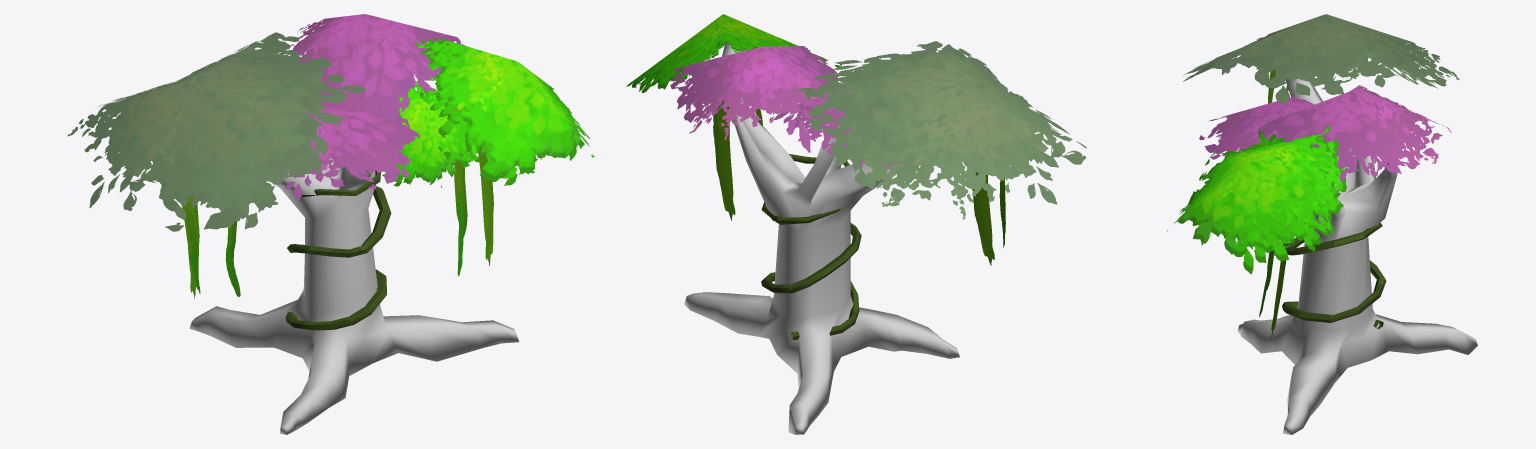
Rendered from Tree_Final_Mesh.fbx.
3 renders of one model, left to right at view 1: azimuth 30°, elevation 25°; view 2: azimuth 150°, elevation 25°; view 3: azimuth 270°, elevation 25°, orthographic. The views are drawn at different scales.
Visible parts, largest first — view 1: polySurface6; view 2: polySurface6; view 3: polySurface6.
Part boxes in pixels (x1=…): polySurface6: x1=68, y1=14, x2=594, y2=434; polySurface6: x1=626, y1=14, x2=1086, y2=434; polySurface6: x1=1167, y1=14, x2=1477, y2=434.
Bounding box in the file's own units: 1250 × 785 × 929.
